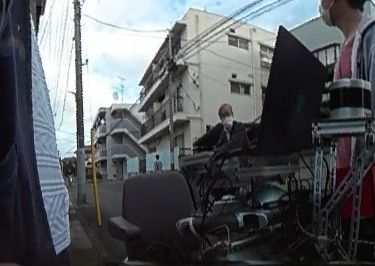person: (321, 0, 375, 266), (213, 99, 248, 148)
